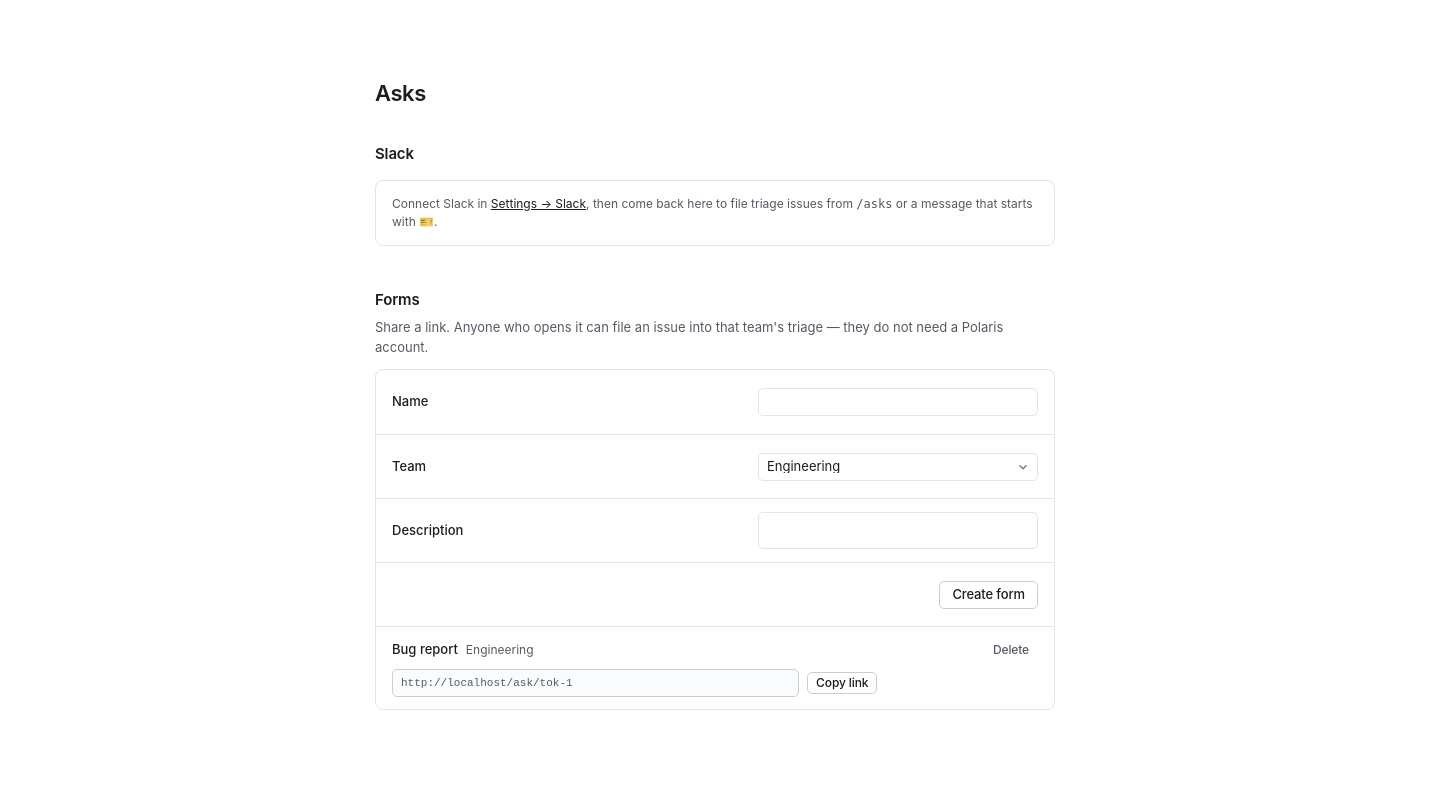
Ask form rows › says the delete was refused instead of closing as though it worked
Click the button with aria-label "Delete Bug report". click: (1011,650)
box: [984,639,1038,661]
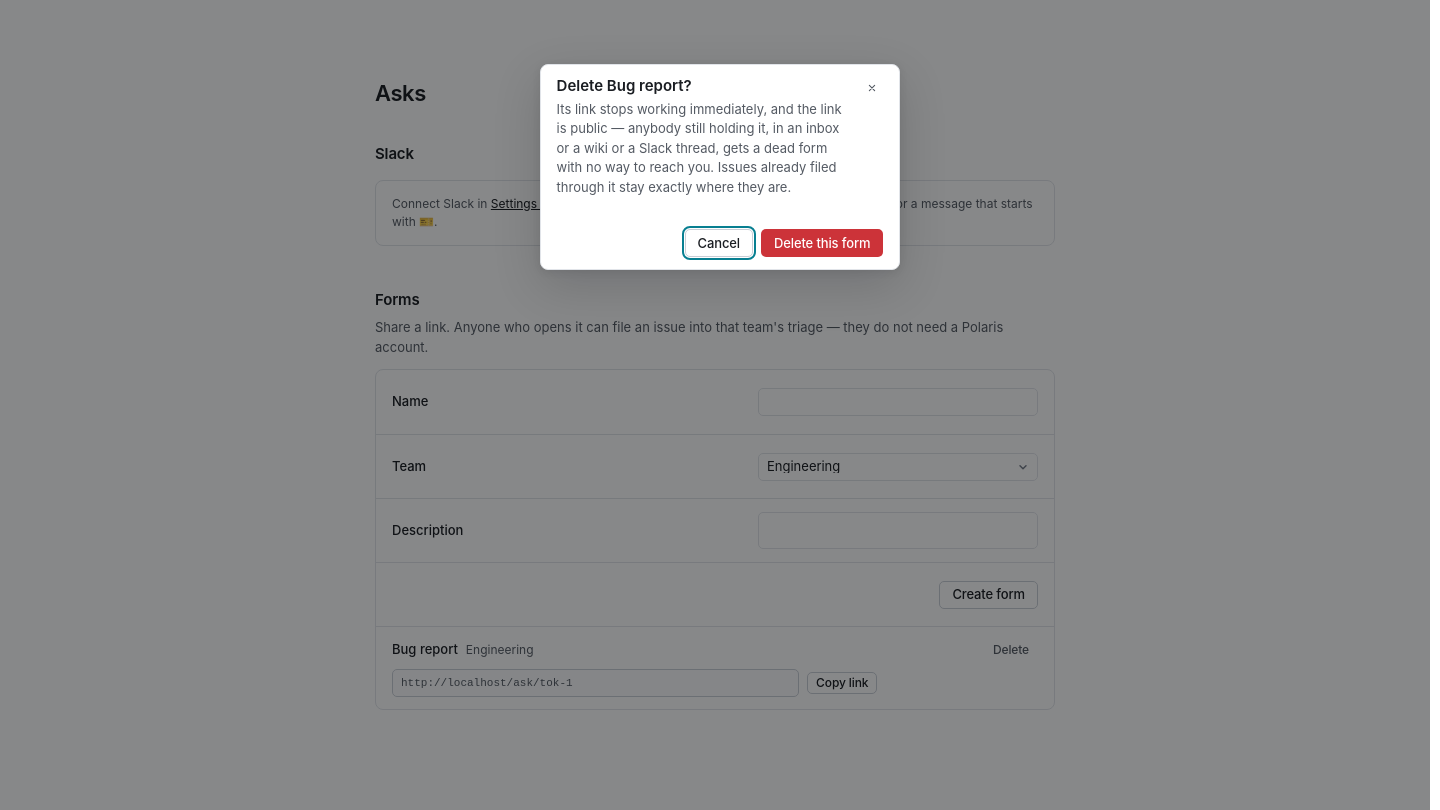
Click the button "Delete this form". click: (822,243)
box: [761,229,883,257]
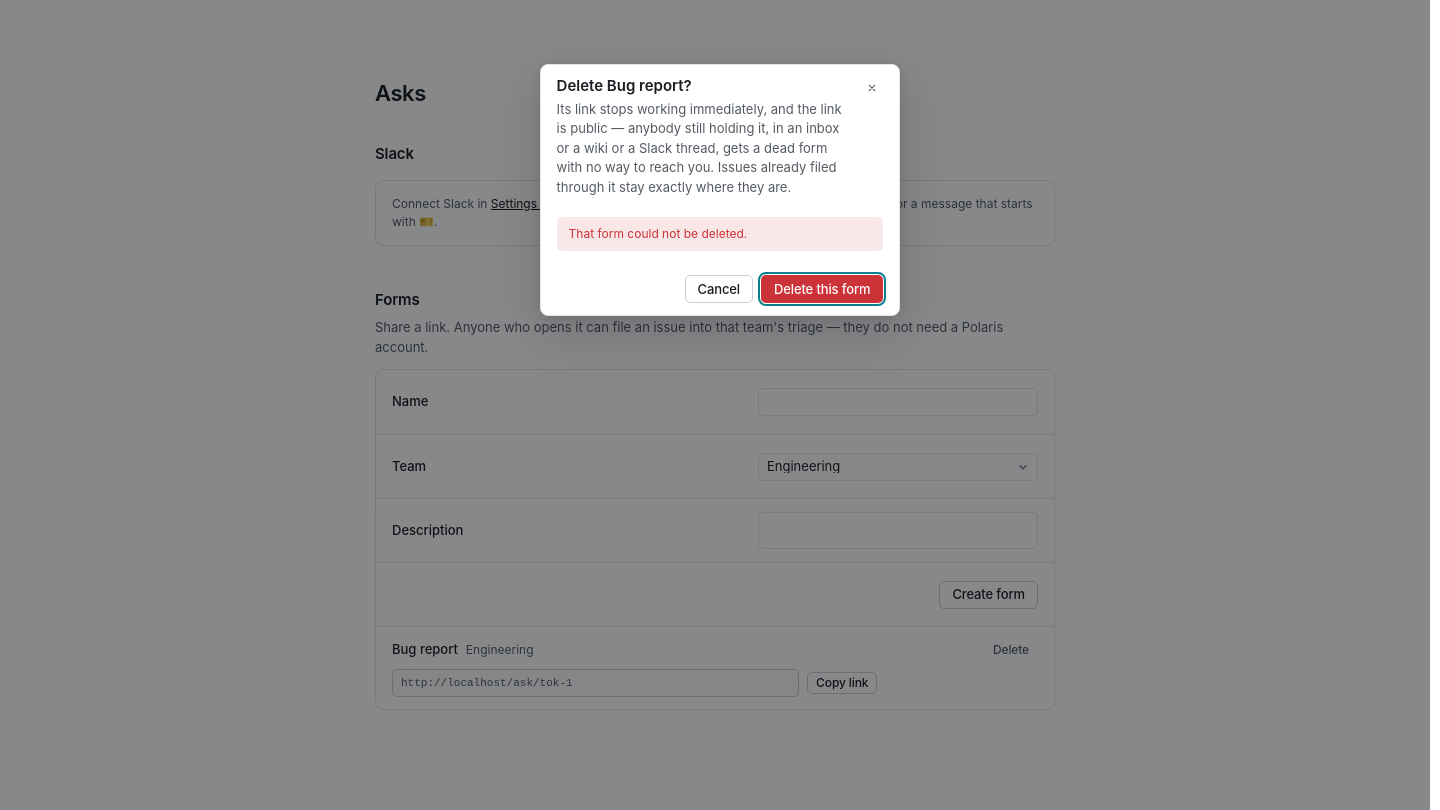
Result: the heading "Delete Bug report?" is shown at [557,76,692,95]
Result: the message reads "That form could not be deleted." at [569,226,747,241]
